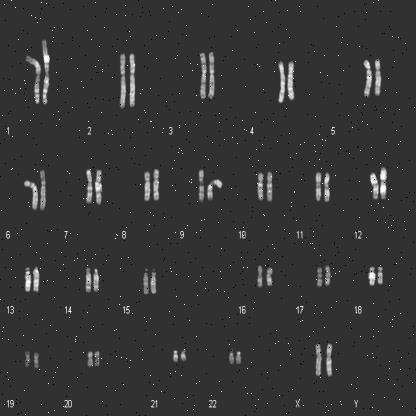1: (22, 51, 41, 106), (40, 36, 52, 106)
10: (264, 166, 274, 205), (256, 166, 266, 204)
11: (314, 166, 322, 206), (324, 166, 332, 206)
12: (378, 166, 392, 198), (366, 169, 379, 201)
13: (22, 261, 32, 294), (32, 260, 41, 294)
14: (83, 264, 93, 296), (92, 264, 102, 296)
15: (141, 262, 149, 300), (150, 262, 158, 300)
16: (254, 258, 264, 292), (265, 258, 275, 290)
17: (316, 260, 323, 296), (324, 260, 331, 296)
18: (368, 260, 376, 293), (376, 262, 384, 294)
19: (22, 346, 33, 373), (32, 344, 42, 372)
2: (126, 48, 136, 110), (118, 49, 127, 112)
20: (84, 347, 95, 370), (92, 348, 102, 371)
21: (168, 341, 180, 368), (180, 341, 190, 368)
22: (236, 342, 244, 369), (228, 343, 235, 370)
3: (196, 47, 208, 106), (206, 46, 216, 106)
4: (275, 58, 287, 106), (286, 58, 298, 106)
5: (361, 52, 372, 102), (371, 52, 382, 102)
6: (22, 178, 38, 211), (38, 168, 48, 212)
7: (84, 166, 93, 208), (94, 166, 103, 208)
8: (142, 167, 152, 203), (152, 168, 162, 204)
9: (206, 174, 224, 205), (195, 163, 205, 206)
X: (312, 338, 324, 382), (324, 338, 334, 382)
